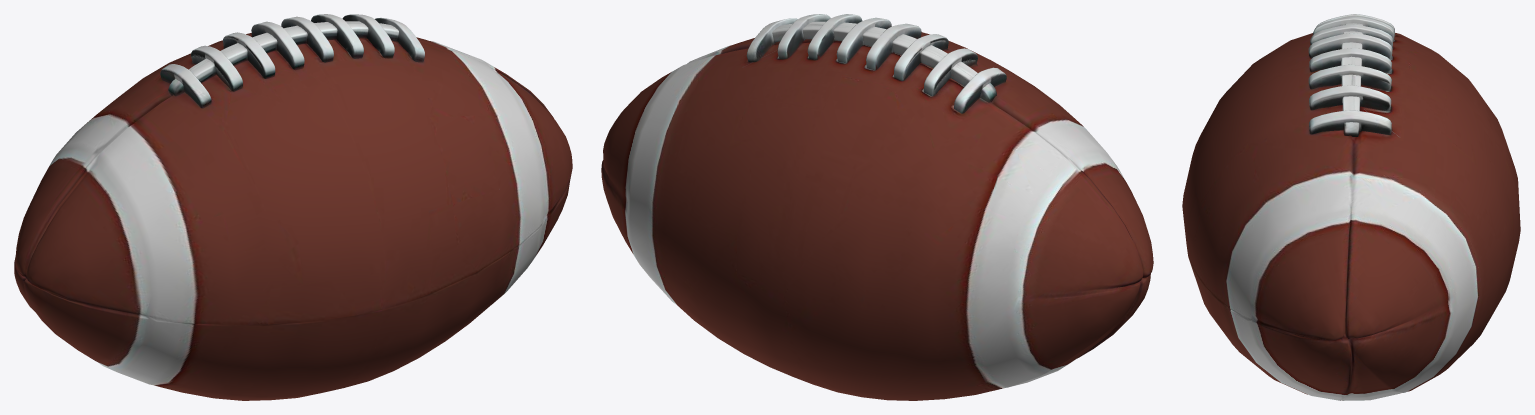
The model's file is football.glb.
3 views of the same model, side by side, from view 1: azimuth 30°, elevation 25°; view 2: azimuth 150°, elevation 25°; view 3: azimuth 270°, elevation 25° (orthographic). The views are drawn at different scales.
Parts seen in each view (by area): view 1: Football; view 2: Football; view 3: Football.
Boxes of the visible parts, <box> form: Football: <box>14,14,572,400</box>; Football: <box>601,14,1153,400</box>; Football: <box>1182,14,1520,400</box>.
Bounding box in the file's own units: 1 × 0.6299 × 0.5912.
Materials: 1 (1 with a texture image).
